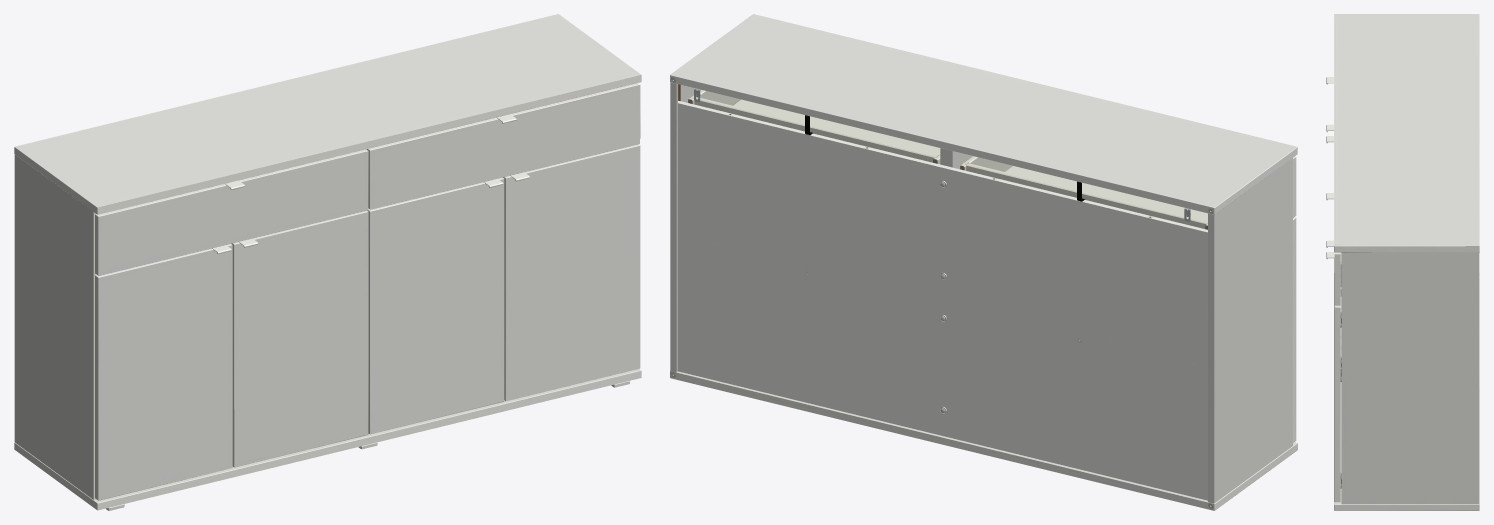
File: vihals_kredens_30491718.glb
The picture shows the model from 3 angles, left to right: view 1: azimuth 30°, elevation 25°; view 2: azimuth 150°, elevation 25°; view 3: azimuth 270°, elevation 25°; orthographic projection. The views are drawn at different scales.
Parts seen in each view (by area): view 1: vihals_kredens_30491718; view 2: vihals_kredens_30491718; view 3: vihals_kredens_30491718.
Part boxes in pixels (<box>): vihals_kredens_30491718: <box>14,14,641,510</box>; vihals_kredens_30491718: <box>670,14,1297,510</box>; vihals_kredens_30491718: <box>1326,14,1479,510</box>.
Size of the model in its own units: 1.4 by 0.75 by 0.3897.
2 materials, 2 textured.
